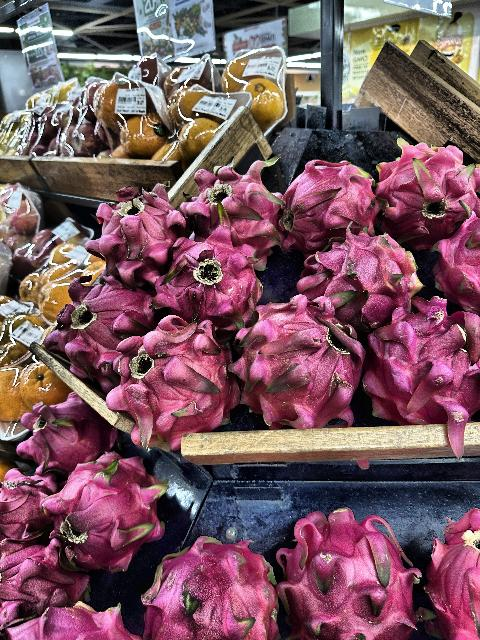buah-naga-matang: (264, 512, 430, 640), (102, 310, 242, 446), (232, 290, 364, 430), (362, 296, 480, 434), (142, 530, 280, 640), (35, 458, 165, 572), (288, 226, 432, 320), (370, 136, 480, 247), (47, 274, 153, 374), (268, 147, 380, 241), (78, 184, 188, 278), (186, 164, 296, 258), (158, 234, 262, 326), (2, 392, 110, 470), (422, 510, 480, 640), (0, 547, 90, 623)
